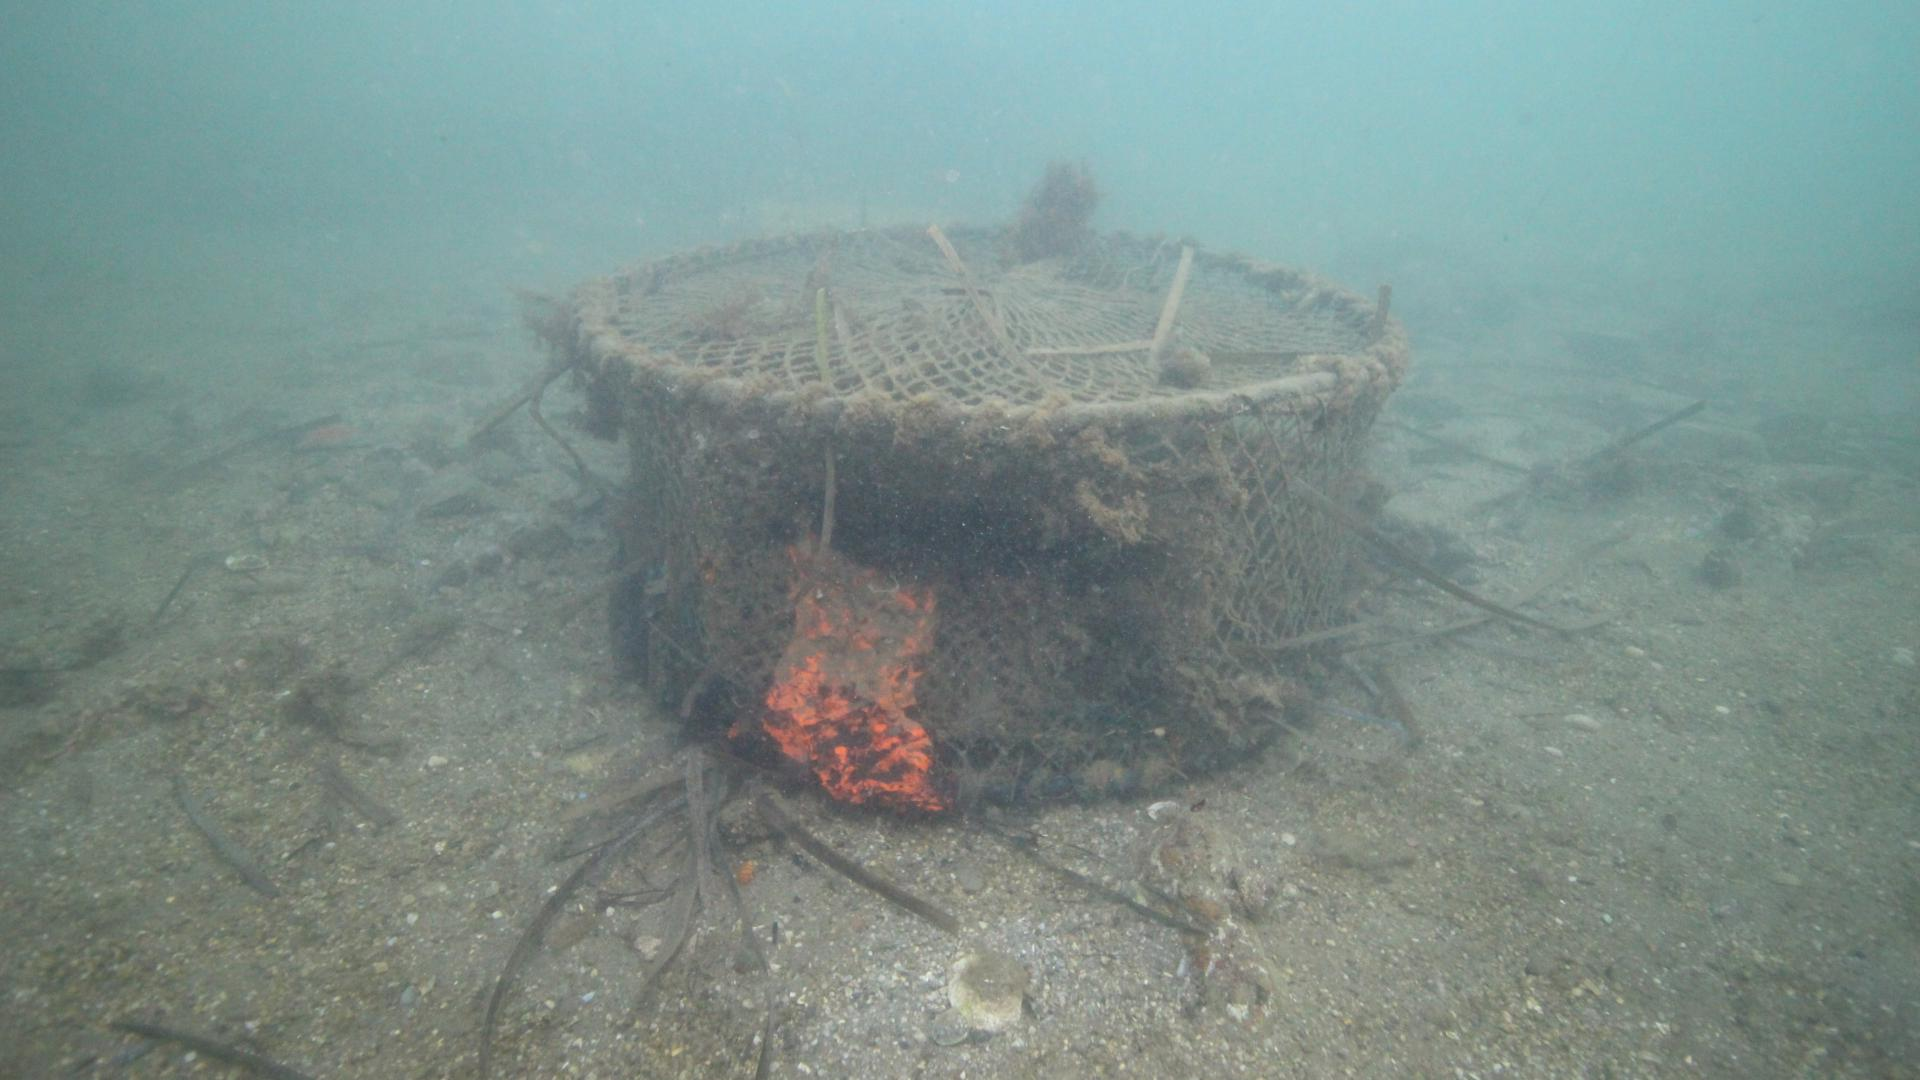circular fish trap: (566, 220, 1408, 803)
